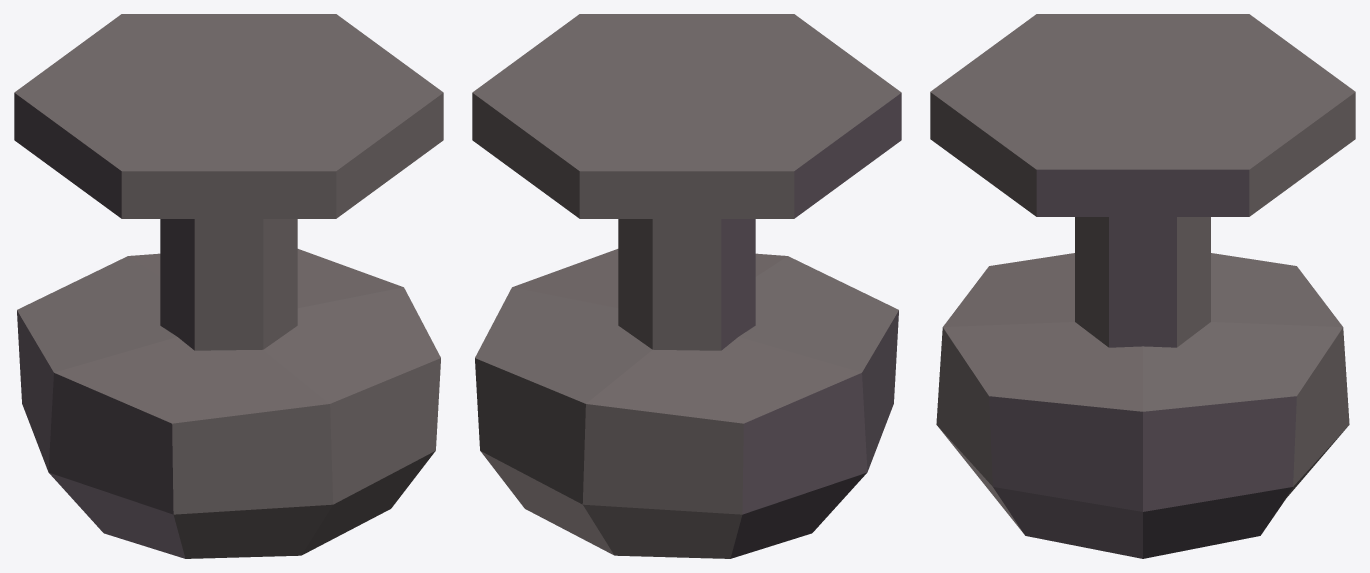
3 renders of one model, left to right at view 1: azimuth 30°, elevation 25°; view 2: azimuth 150°, elevation 25°; view 3: azimuth 270°, elevation 25°, orthographic.
Parts seen in each view (by area): view 1: Base; view 2: Base; view 3: Base.
Part boxes in pixels (x1,y1,x2,y2): Base: (14, 14, 443, 558); Base: (472, 14, 901, 558); Base: (930, 14, 1355, 558).
Size of the model in its own units: 40.08 by 46.26 by 41.29.
